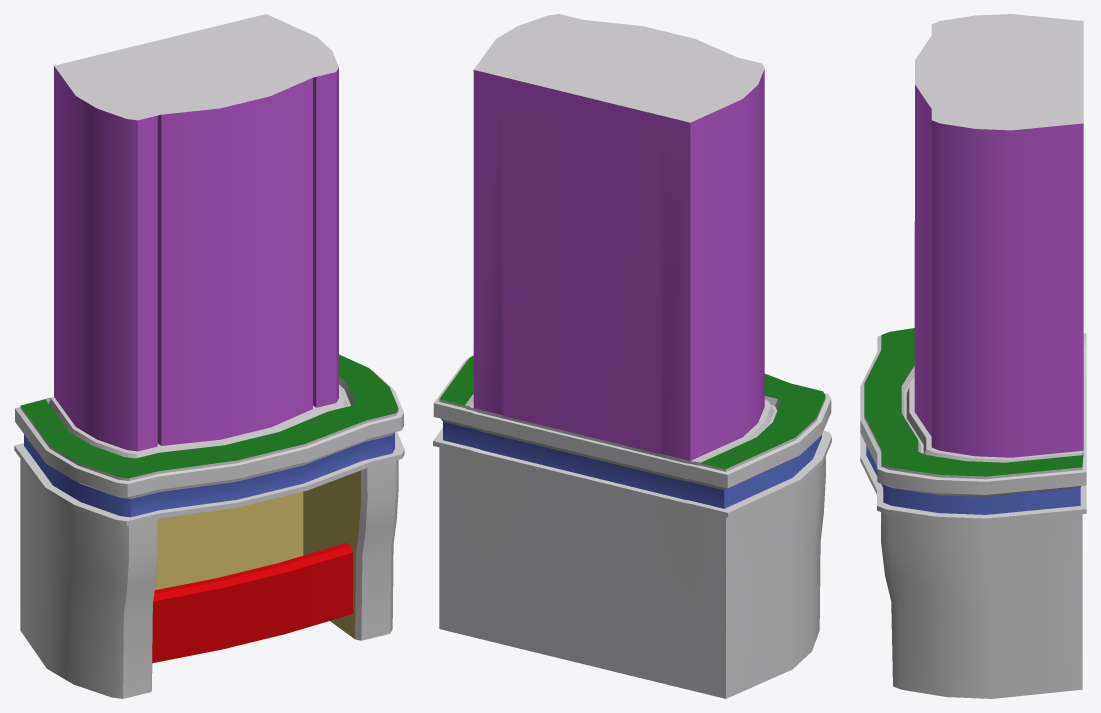
The model's file is Fireplace_New.fbx.
3 renders of one model, left to right at view 1: azimuth 30°, elevation 25°; view 2: azimuth 150°, elevation 25°; view 3: azimuth 270°, elevation 25°, orthographic. The views are drawn at different scales.
Parts seen in each view (by area): view 1: Fireplace_New; view 2: Fireplace_New; view 3: Fireplace_New.
Boxes of the visible parts, x1=… form: Fireplace_New: x1=14, y1=14, x2=404, y2=698; Fireplace_New: x1=433, y1=14, x2=831, y2=698; Fireplace_New: x1=860, y1=14, x2=1086, y2=698.
Bounding box in the file's own units: 1.77 × 2.86 × 1.07.
